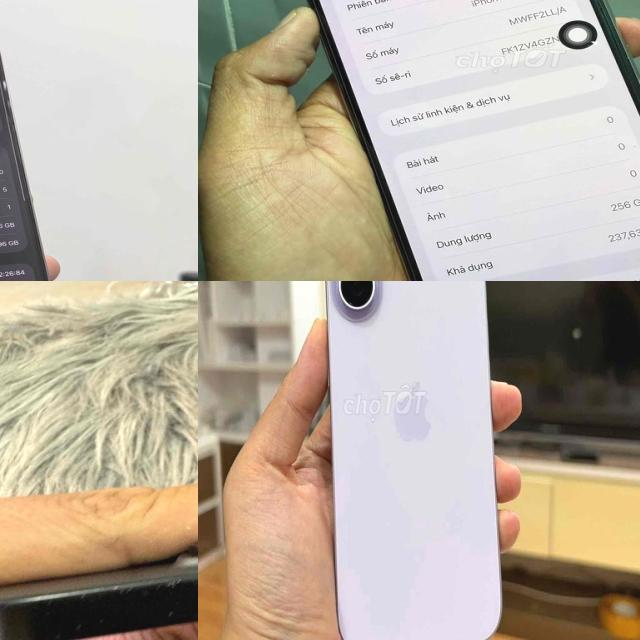scratch: (59, 569, 198, 621)
